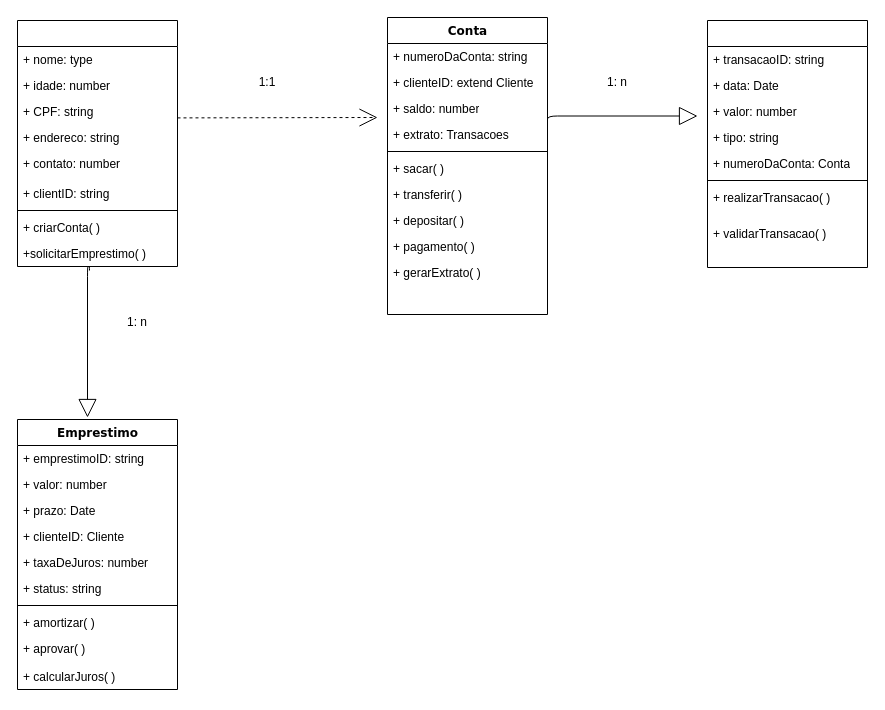
Some shapes in this 885 by 710 pixel diagram are drawn without their labels. Each missing label, with the box of its shape:
Cliente: (16, 20, 178, 266)
Transacoes: (706, 20, 868, 268)
